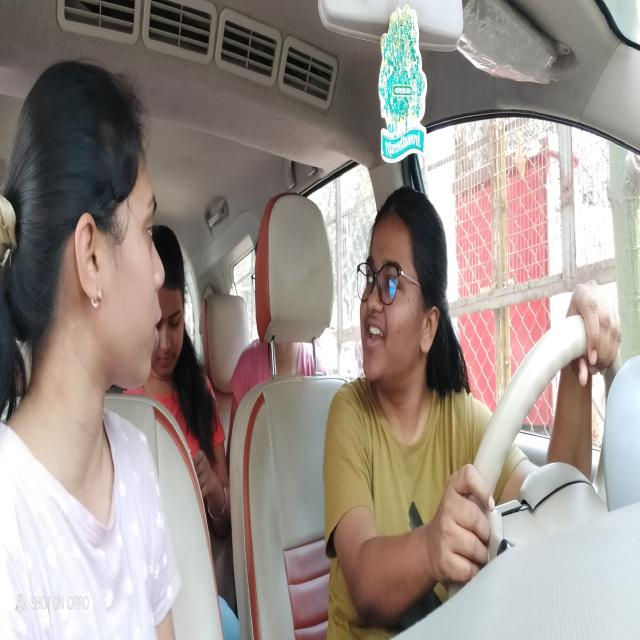LeftRight: (352, 185, 448, 394)
person: (17, 56, 167, 395), (158, 226, 194, 381)
talking: (362, 313, 387, 356)
